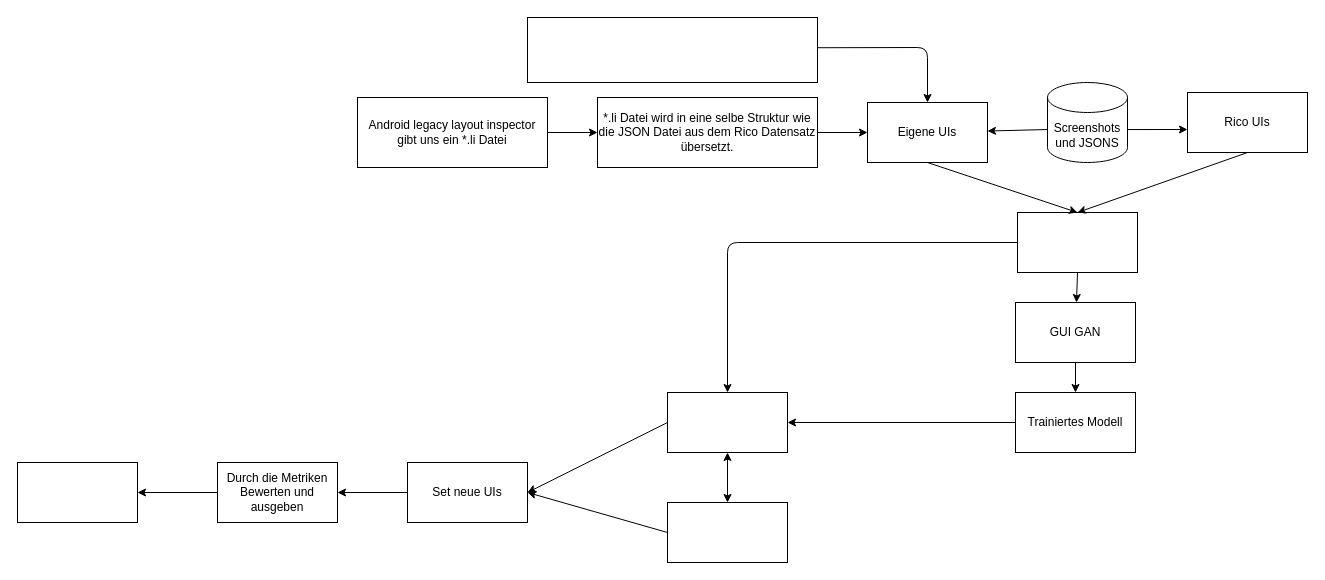
Image size: 1325x580. Some labels were removed from this diagram. Each missing label, with the centre of its shape:
"Discriminator" goes at (x=727, y=532).
"Generator" goes at (x=727, y=422).
"Screenshot von der UI. Dimension: 540 x 960" goes at (x=672, y=49).
"Set aus Neue bewertete UIs" goes at (x=77, y=492).
"Set aus UIs" goes at (x=1077, y=242).
